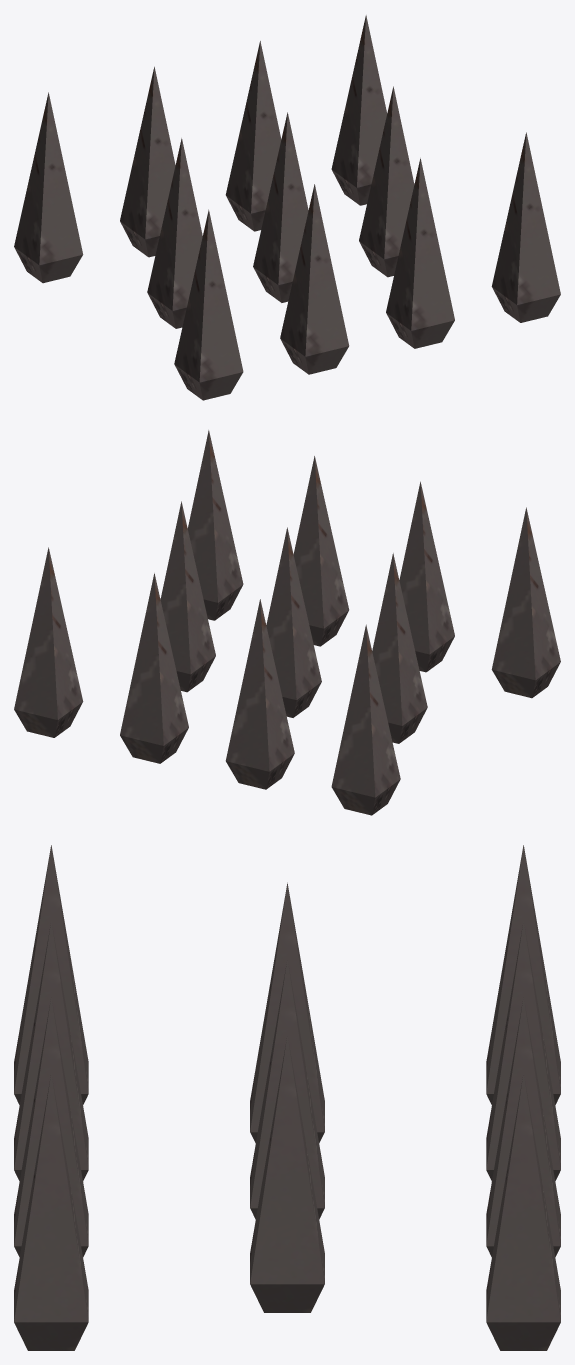
The model's file is Spikes.fbx.
3 views of the same model, one above another, from view 1: azimuth 30°, elevation 25°; view 2: azimuth 150°, elevation 25°; view 3: azimuth 270°, elevation 25° (orthographic). The views are drawn at different scales.
Parts seen in each view (by area): view 1: Cube.005; view 2: Cube.005; view 3: Cube.005.
Part boxes in pixels (box(x1,y1,x2,y2)): Cube.005: box(14, 15, 560, 400); Cube.005: box(14, 430, 560, 815); Cube.005: box(14, 845, 560, 1350).
Bounding box in the file's own units: 50.13 × 24.17 × 44.59.
